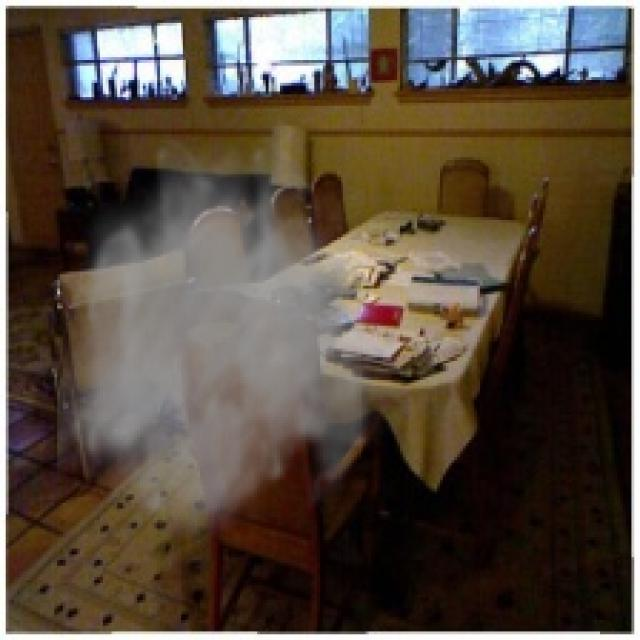smoke: (57, 132, 403, 548)
